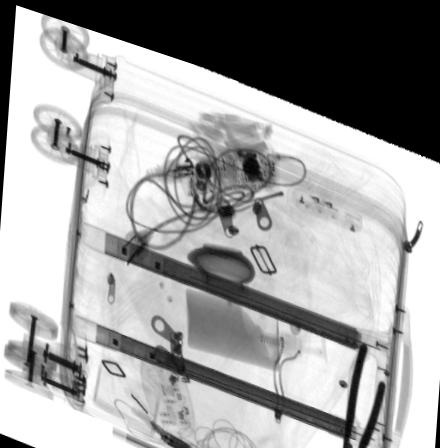Pliers: (337, 318, 385, 448)
